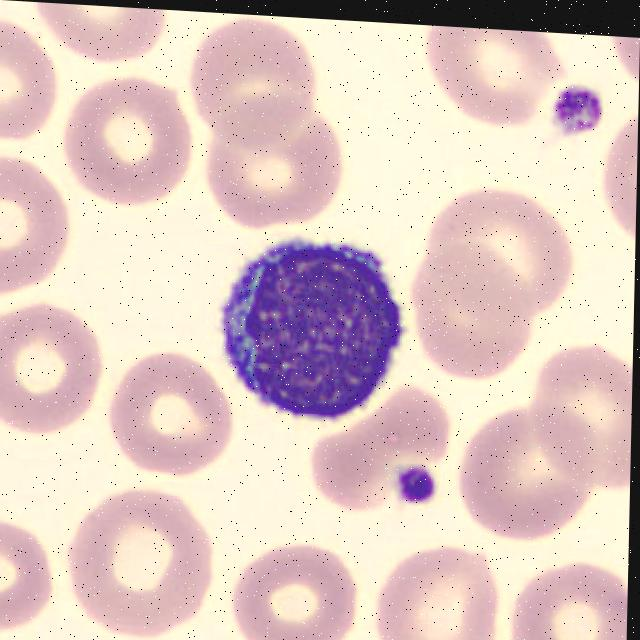lymphocyte: (205, 231, 407, 424)
platelets: (544, 82, 604, 144), (393, 461, 441, 511)
rbc: (63, 479, 210, 640), (426, 185, 577, 323), (458, 411, 595, 542), (201, 112, 351, 231), (407, 249, 531, 392), (191, 22, 323, 149), (305, 399, 446, 511), (102, 354, 226, 475), (537, 345, 632, 495), (425, 25, 563, 128), (74, 82, 189, 205), (0, 300, 97, 441), (235, 538, 358, 640), (380, 544, 500, 640), (511, 561, 626, 640), (0, 155, 64, 294), (26, 2, 164, 62), (0, 22, 54, 143), (0, 522, 52, 627), (609, 114, 638, 234), (604, 36, 639, 83)
